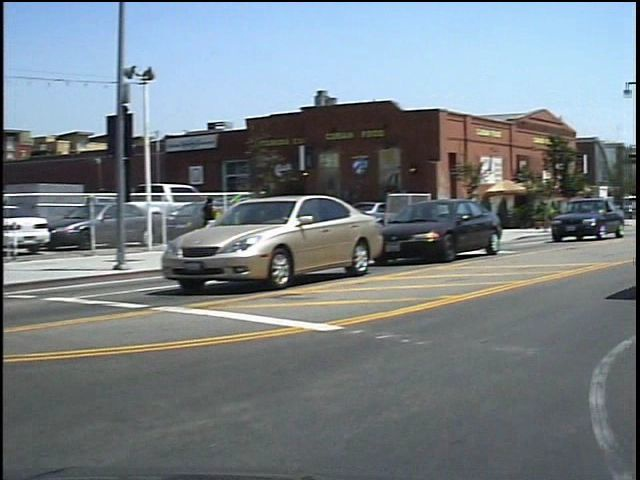person: (207, 184, 233, 249)
